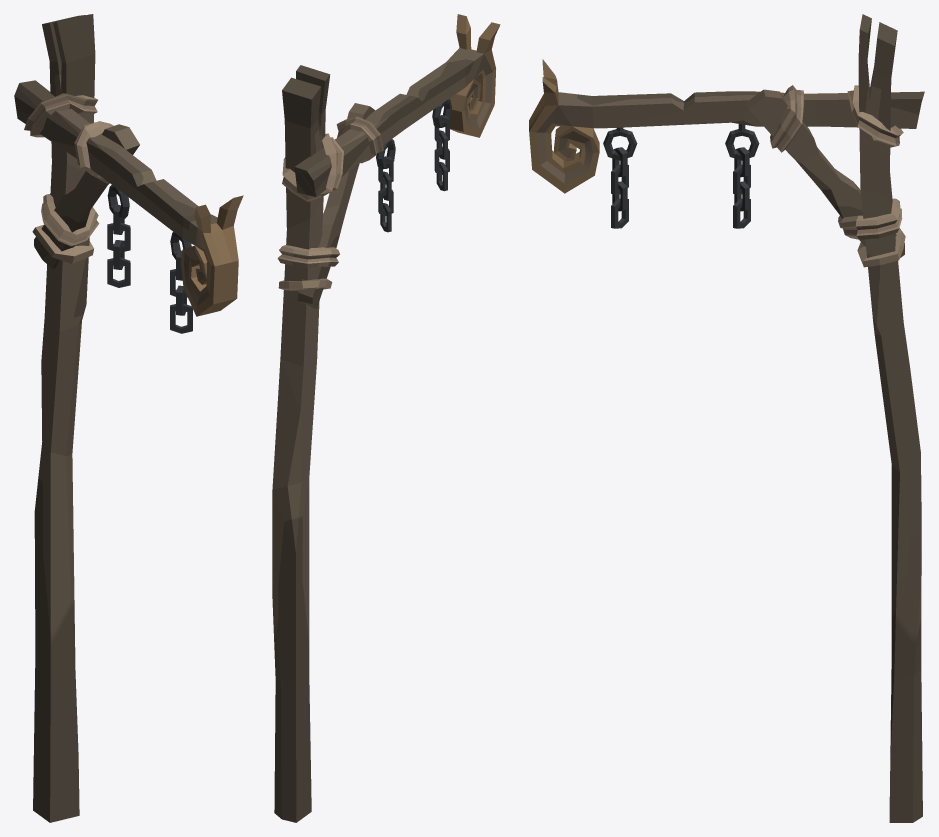
File: SM_Prop_Sign_Post_01.fbx
3 views of the same model, side by side, from view 1: azimuth 30°, elevation 25°; view 2: azimuth 150°, elevation 25°; view 3: azimuth 270°, elevation 25° (orthographic). The views are drawn at different scales.
Visible parts, largest first — view 1: SM_Prop_Sign_Post_01; view 2: SM_Prop_Sign_Post_01; view 3: SM_Prop_Sign_Post_01.
Part boxes in pixels (x1,y1,x2,y2): SM_Prop_Sign_Post_01: (14, 14, 243, 822); SM_Prop_Sign_Post_01: (272, 14, 500, 822); SM_Prop_Sign_Post_01: (529, 14, 924, 822).
Size of the model in its own units: 26.12 by 301 by 136.
